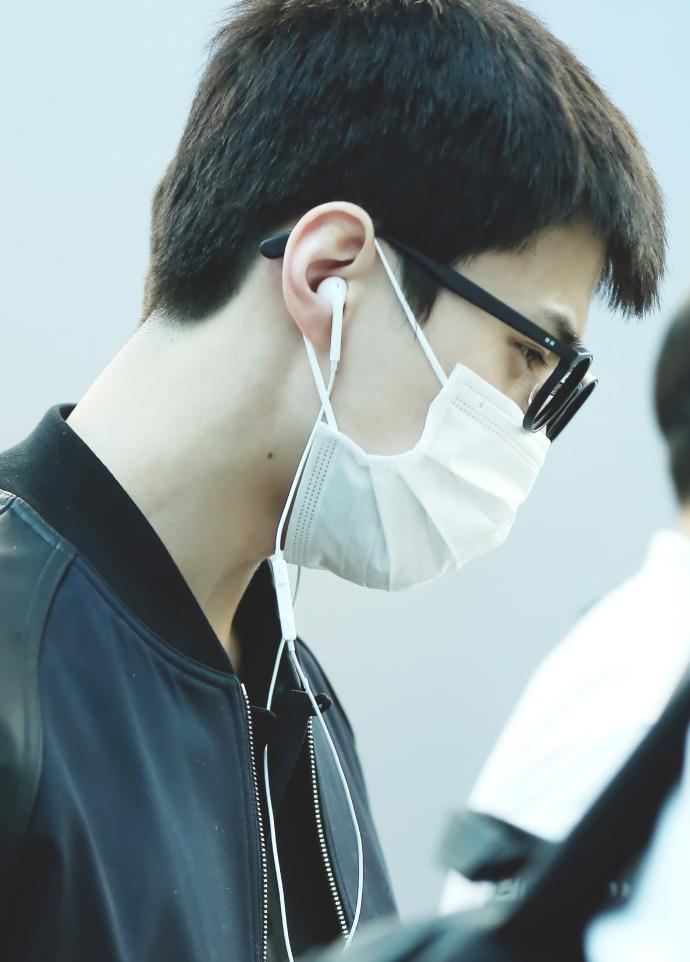OK: (252, 239, 607, 594)
